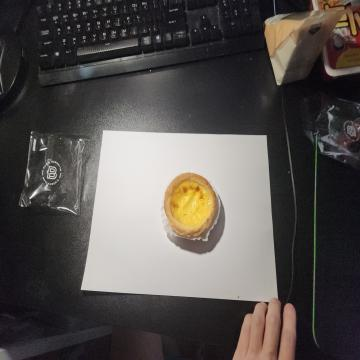EggTart: (164, 173, 218, 237)
